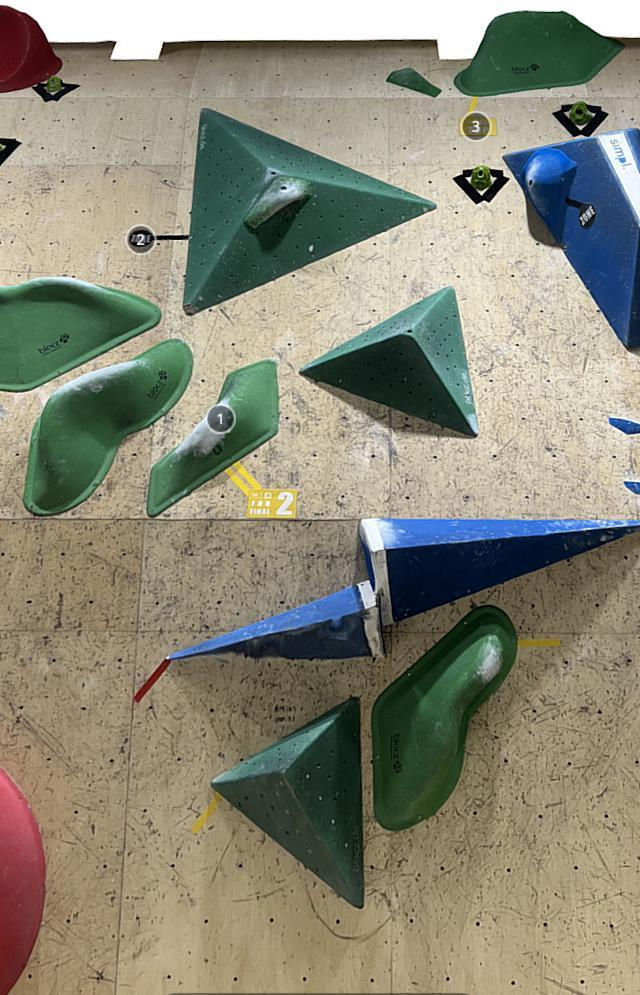hold: (371, 605, 518, 829), (500, 127, 640, 351), (358, 519, 640, 626), (22, 339, 192, 515), (147, 359, 280, 517), (0, 277, 162, 393), (166, 579, 386, 660), (454, 11, 625, 97), (0, 768, 47, 995), (0, 5, 63, 93), (521, 147, 578, 241), (244, 175, 315, 229), (451, 166, 510, 205), (551, 101, 609, 137), (386, 67, 441, 97), (31, 75, 81, 103), (0, 137, 22, 167), (608, 416, 640, 434), (623, 480, 640, 496)
volume: (183, 106, 436, 316), (207, 696, 365, 909), (299, 284, 480, 437)
